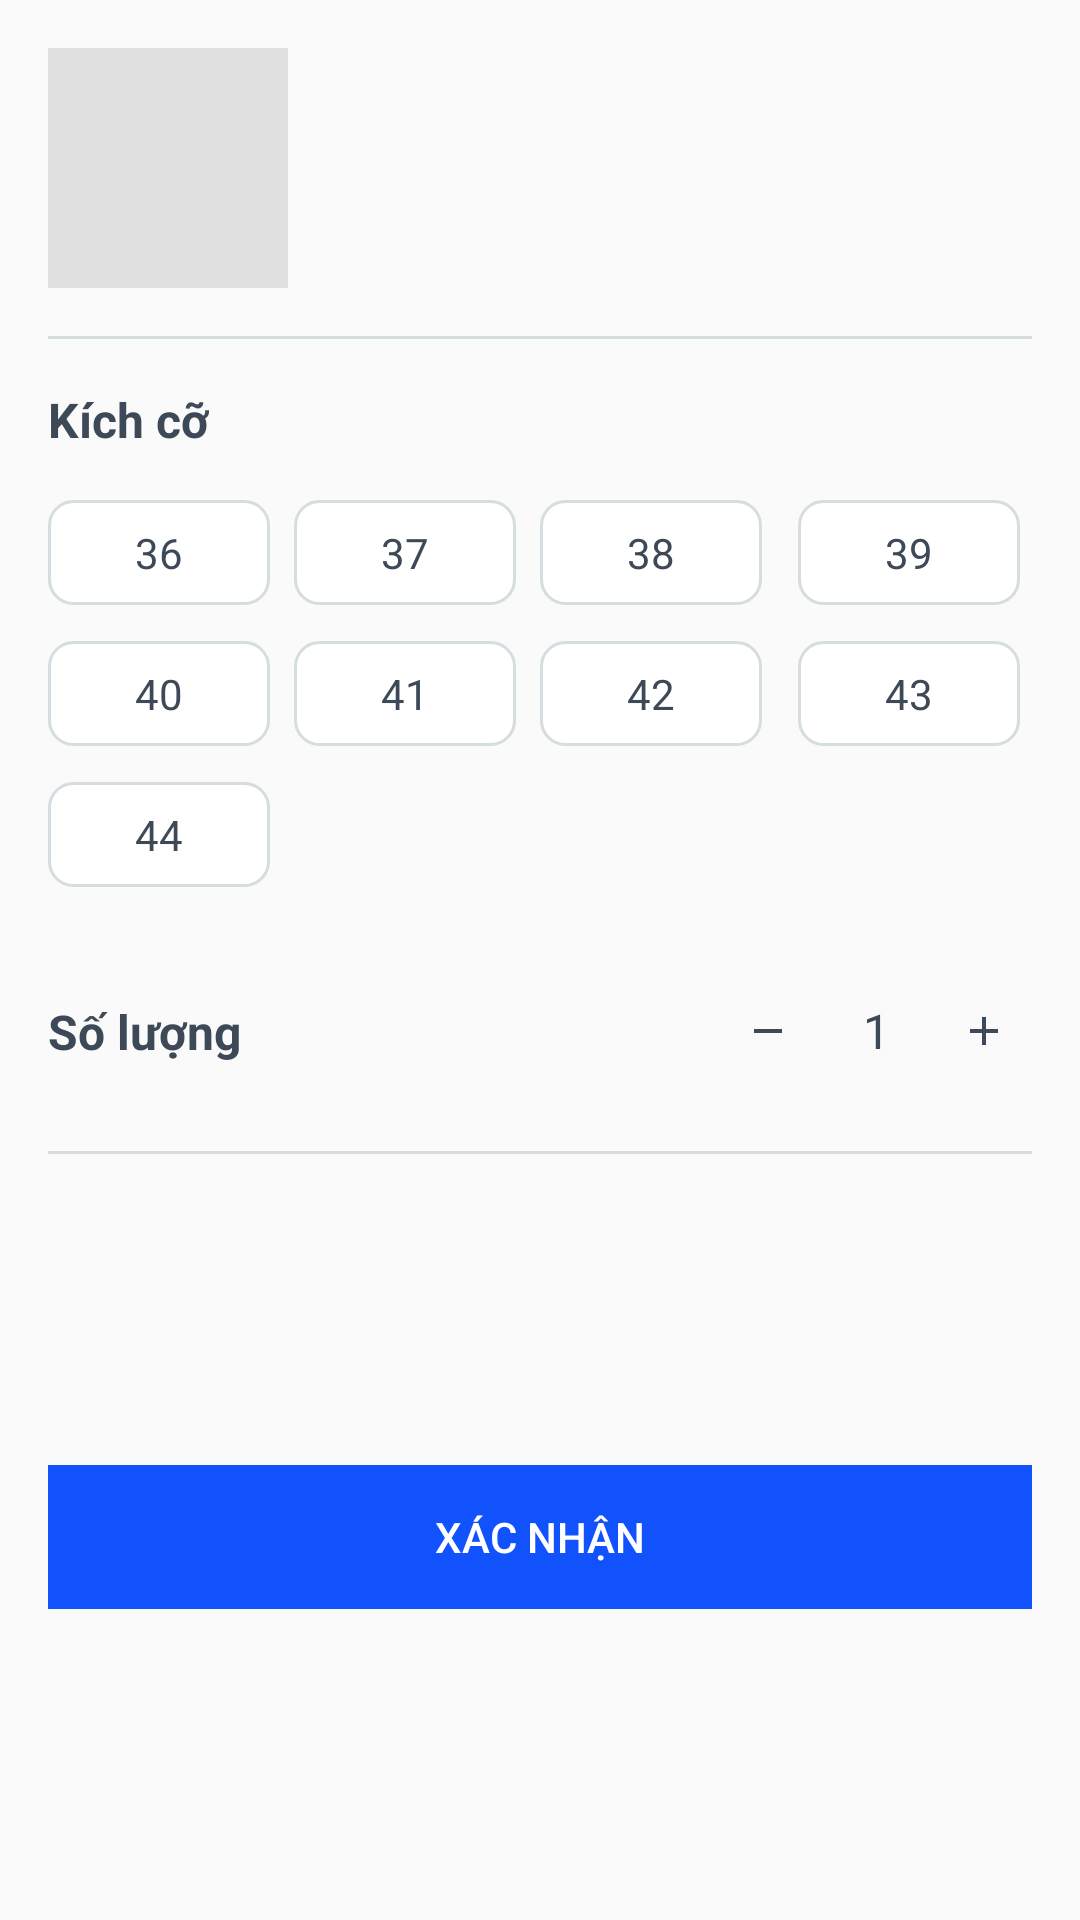

Icon click points for this 1080 × 1920 phone screenshot, format (x,y):
plus: (984,1031)
